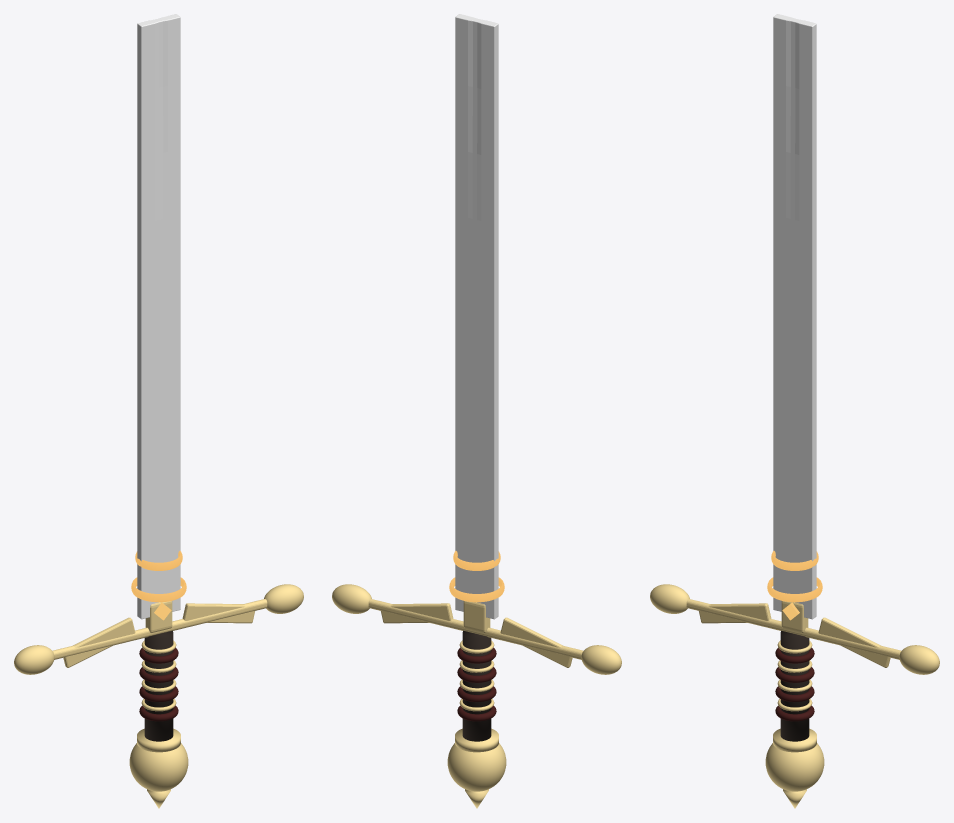
File: GEO-mythic_sword.glb
3 views of the same model, side by side, from view 1: azimuth 30°, elevation 25°; view 2: azimuth 150°, elevation 25°; view 3: azimuth 330°, elevation 25° (orthographic).
Parts seen in each view (by area): view 1: GEO-mythic_blade, GEO-mythic_pommel_ball, GEO-mythic_grip, GEO-mythic_guard_bar, GEO-mythic_guard_arm_L, GEO-mythic_guard_arm_R, GEO-mythic_guard_orb_L, GEO-mythic_guard_orb_R, GEO-mythic_pommel_disc, GEO-mythic_rune_ring_1, GEO-mythic_guard_seat; view 2: GEO-mythic_blade, GEO-mythic_pommel_ball, GEO-mythic_grip, GEO-mythic_guard_bar, GEO-mythic_guard_arm_L, GEO-mythic_guard_arm_R, GEO-mythic_guard_orb_L, GEO-mythic_guard_orb_R, GEO-mythic_guard_seat, GEO-mythic_pommel_disc, GEO-mythic_rune_ring_1; view 3: GEO-mythic_blade, GEO-mythic_pommel_ball, GEO-mythic_grip, GEO-mythic_guard_bar, GEO-mythic_guard_arm_R, GEO-mythic_guard_arm_L, GEO-mythic_guard_orb_R, GEO-mythic_guard_orb_L, GEO-mythic_pommel_disc, GEO-mythic_rune_ring_1, GEO-mythic_guard_seat.
Part boxes in pixels (x1,y1,x2,y2): GEO-mythic_blade: (137, 14, 180, 619); GEO-mythic_pommel_ball: (129, 743, 188, 791); GEO-mythic_grip: (144, 630, 173, 741); GEO-mythic_guard_bar: (52, 599, 267, 659); GEO-mythic_guard_arm_L: (63, 617, 135, 667); GEO-mythic_guard_arm_R: (182, 603, 254, 623); GEO-mythic_guard_orb_L: (14, 645, 54, 674); GEO-mythic_guard_orb_R: (264, 584, 303, 613); GEO-mythic_pommel_disc: (137, 728, 180, 752); GEO-mythic_rune_ring_1: (131, 577, 186, 602); GEO-mythic_guard_seat: (145, 601, 172, 633); GEO-mythic_blade: (455, 14, 498, 619); GEO-mythic_pommel_ball: (447, 743, 506, 791); GEO-mythic_grip: (462, 630, 491, 741); GEO-mythic_guard_bar: (368, 599, 583, 659); GEO-mythic_guard_arm_L: (500, 617, 572, 667); GEO-mythic_guard_arm_R: (381, 603, 453, 623); GEO-mythic_guard_orb_L: (581, 645, 621, 674); GEO-mythic_guard_orb_R: (332, 584, 371, 613); GEO-mythic_guard_seat: (463, 601, 490, 633); GEO-mythic_pommel_disc: (455, 728, 498, 752); GEO-mythic_rune_ring_1: (449, 577, 504, 602); GEO-mythic_blade: (773, 14, 816, 619); GEO-mythic_pommel_ball: (765, 743, 824, 791); GEO-mythic_grip: (780, 630, 809, 741); GEO-mythic_guard_bar: (686, 599, 901, 659); GEO-mythic_guard_arm_R: (818, 617, 890, 667); GEO-mythic_guard_arm_L: (699, 603, 771, 623); GEO-mythic_guard_orb_R: (899, 645, 939, 674); GEO-mythic_guard_orb_L: (650, 584, 689, 613); GEO-mythic_pommel_disc: (773, 728, 816, 752); GEO-mythic_rune_ring_1: (767, 577, 822, 602); GEO-mythic_guard_seat: (781, 601, 808, 633).
Bounding box in the file's own units: 0.406 × 1.06 × 0.072.
